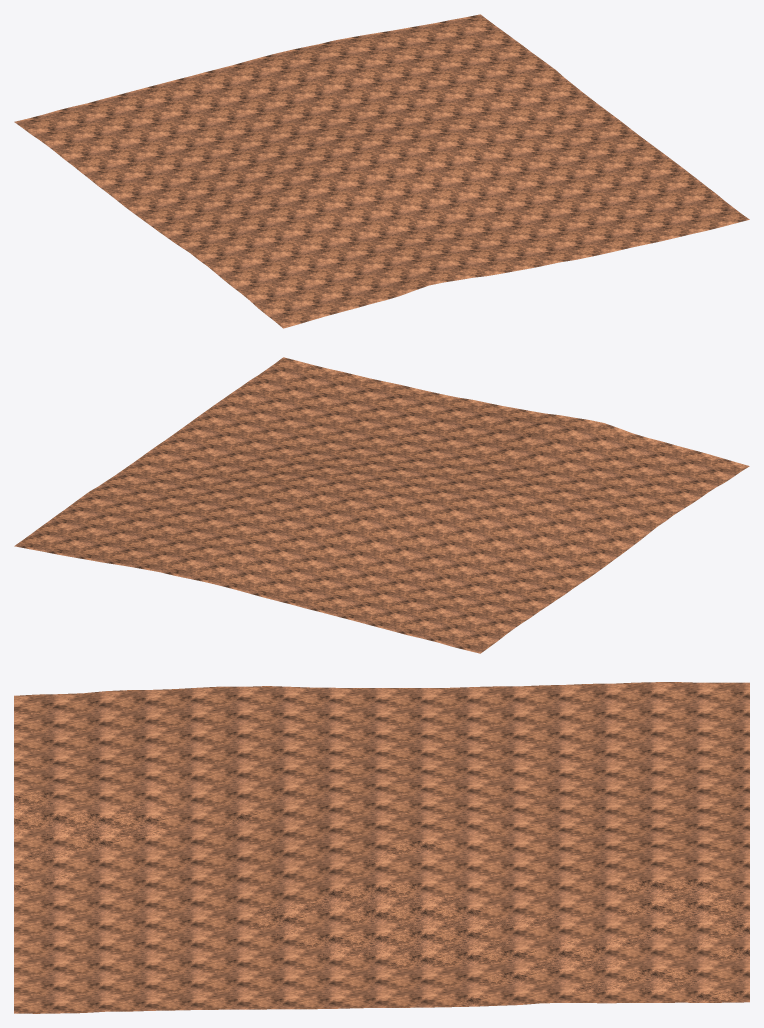
File: terrain_09_22.dae
3 views of the same model, one above another, from view 1: azimuth 30°, elevation 25°; view 2: azimuth 150°, elevation 25°; view 3: azimuth 270°, elevation 25° (orthographic). The views are drawn at different scales.
Parts seen in each view (by area): view 1: terrain_09_22-node; view 2: terrain_09_22-node; view 3: terrain_09_22-node.
Boxes of the visible parts, x1=… form: terrain_09_22-node: x1=14, y1=14, x2=749, y2=328; terrain_09_22-node: x1=14, y1=357, x2=749, y2=653; terrain_09_22-node: x1=14, y1=682, x2=749, y2=1013.
Bounding box in the file's own units: 128 × 128 × 5.42.
Materials: 1 (1 with a texture image).
